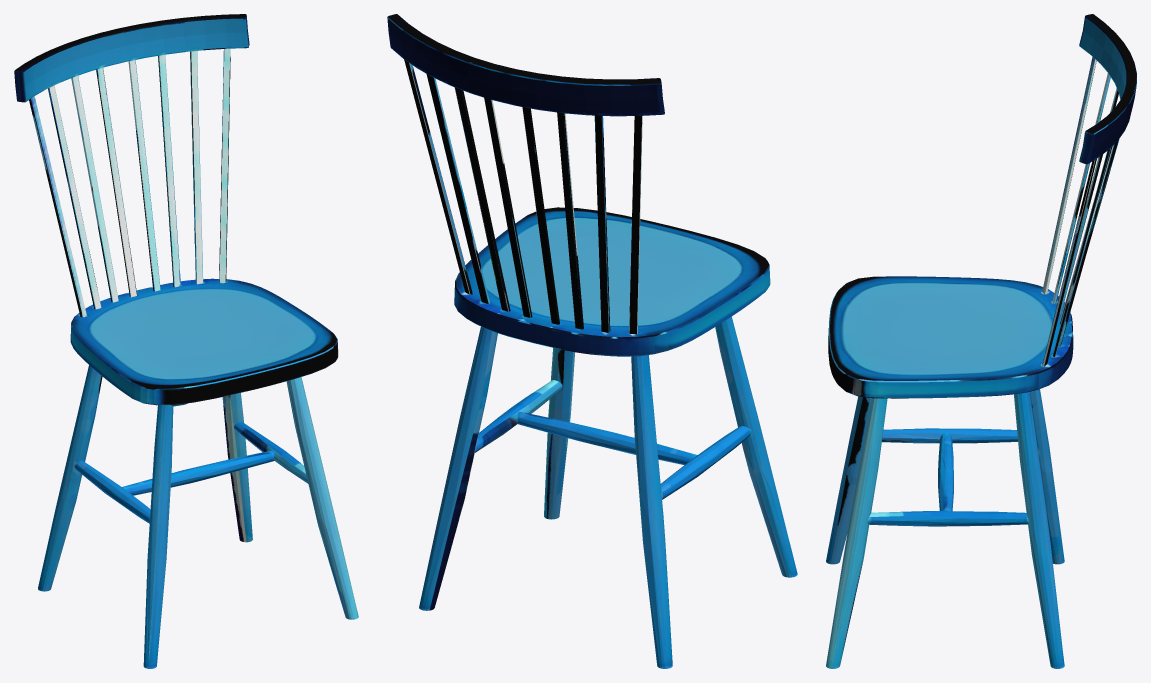
File: edited_mesh.glb
3 renders of one model, left to right at view 1: azimuth 30°, elevation 25°; view 2: azimuth 150°, elevation 25°; view 3: azimuth 270°, elevation 25°, orthographic. The views are drawn at different scales.
Parts seen in each view (by area): view 1: normalized_model.obj; view 2: normalized_model.obj; view 3: normalized_model.obj.
Boxes of the visible parts, x1,y1,x2,y2 form: normalized_model.obj: (14, 14, 358, 668); normalized_model.obj: (387, 14, 797, 668); normalized_model.obj: (826, 14, 1136, 668).
Size of the model in its own units: 0.7566 by 1.59 by 0.8261.
Materials: 1 (1 with a texture image).
